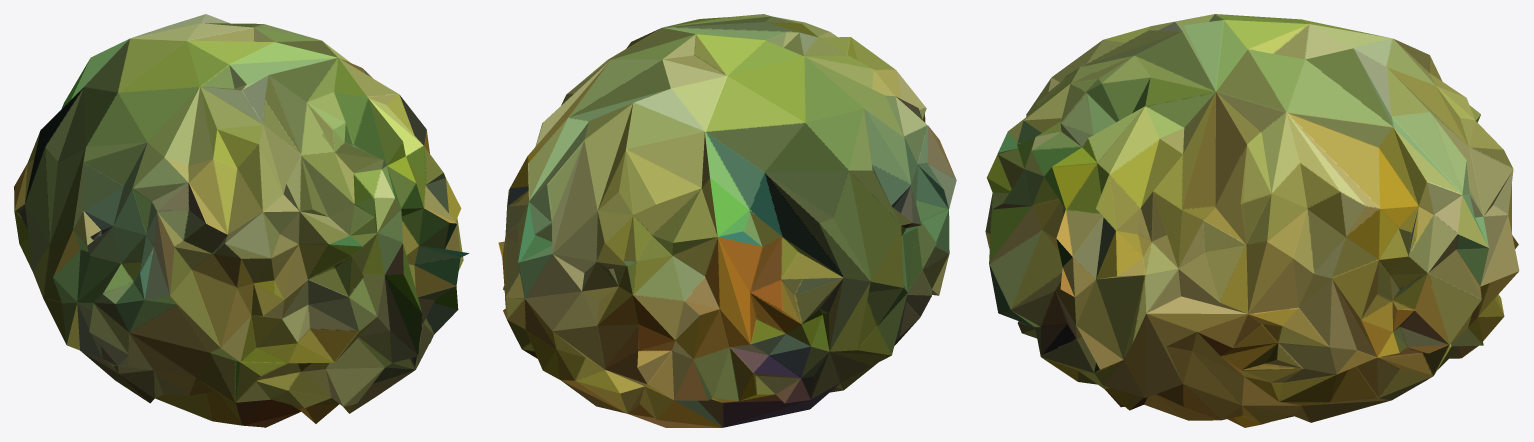
The model's file is pollen.fbx.
3 views of the same model, side by side, from view 1: azimuth 30°, elevation 25°; view 2: azimuth 150°, elevation 25°; view 3: azimuth 270°, elevation 25° (orthographic). The views are drawn at different scales.
Parts seen in each view (by area): view 1: Mesh_0; view 2: Mesh_0; view 3: Mesh_0.
Part boxes in pixels (left/top/right/bottom): Mesh_0: left=14, top=14, right=469, bottom=427; Mesh_0: left=498, top=14, right=956, bottom=427; Mesh_0: left=985, top=14, right=1519, bottom=427.
Bounding box in the file's own units: 96.64 × 85.47 × 117.
1 material, 1 textured.
